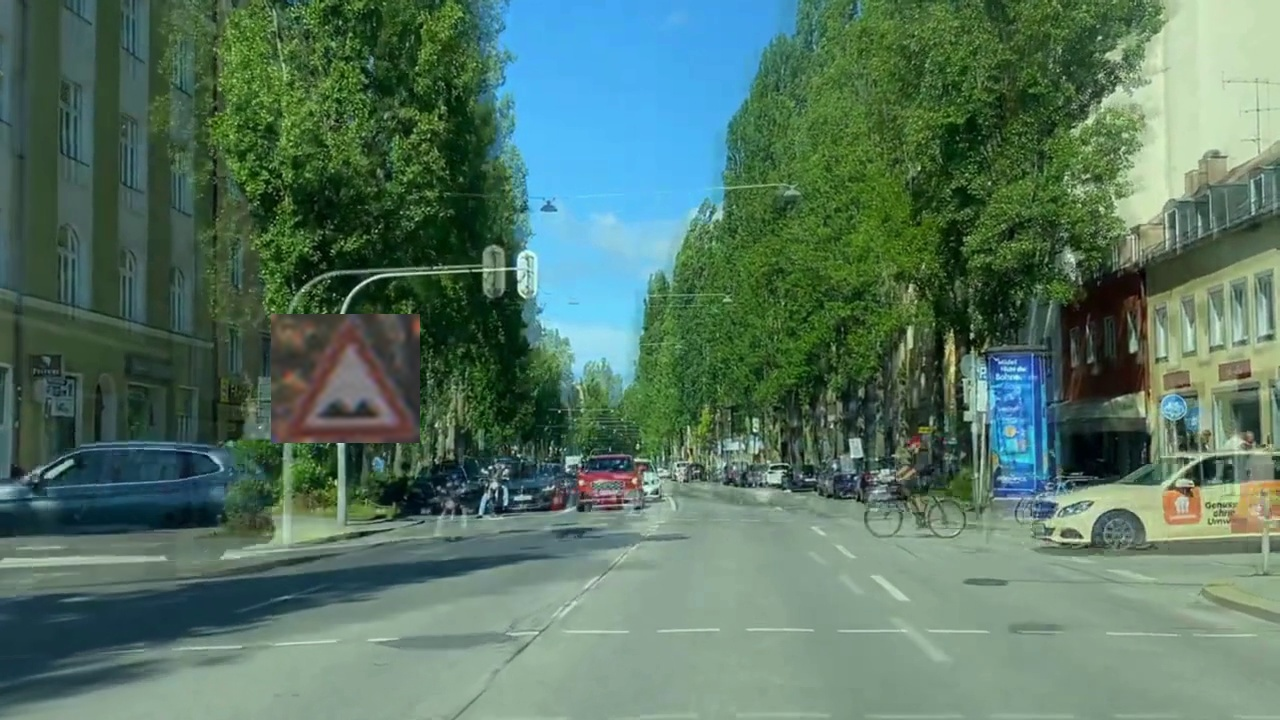Bumpy road: (271, 314, 420, 443)
